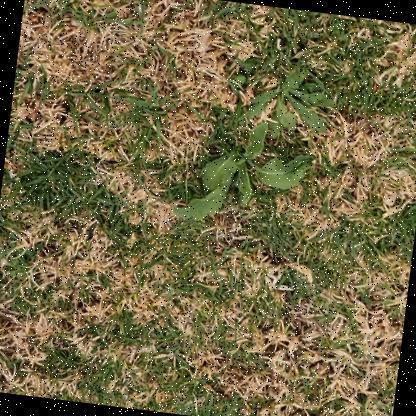Weeds: (173, 109, 317, 235), (236, 56, 345, 145)
